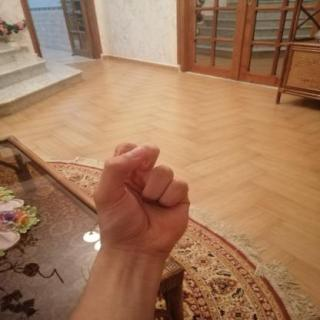QAAF: (75, 134, 208, 267)
